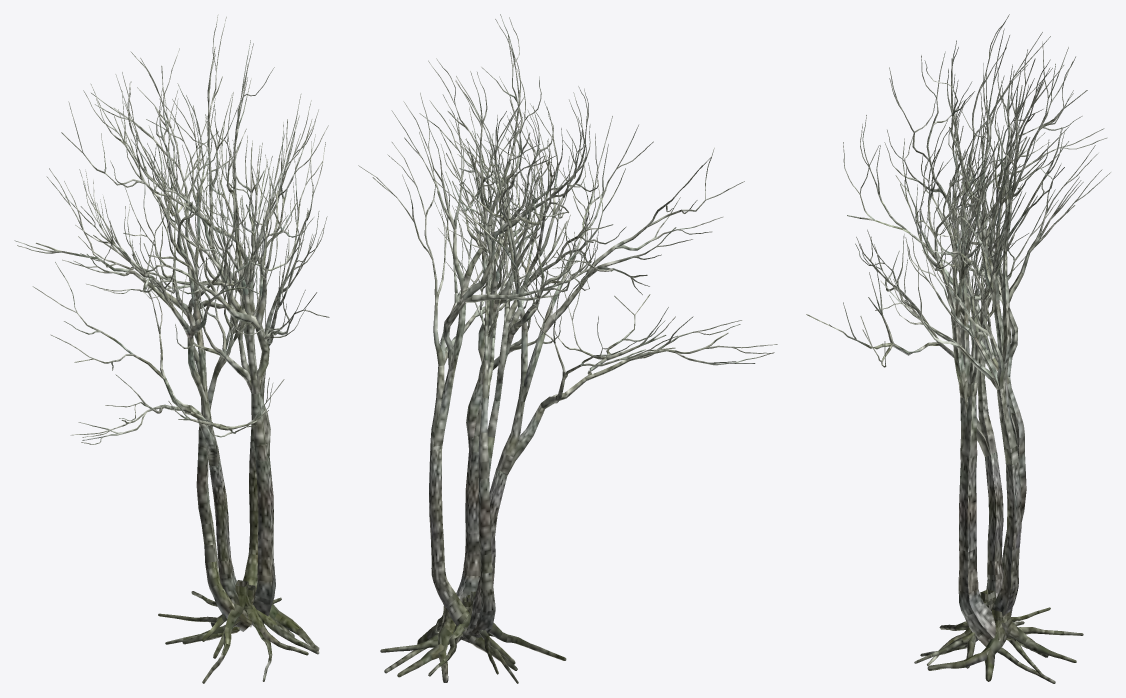
Rendered from Dead_derevo_04.fbx.
3 views of the same model, side by side, from view 1: azimuth 30°, elevation 25°; view 2: azimuth 150°, elevation 25°; view 3: azimuth 270°, elevation 25° (orthographic). The views are drawn at different scales.
Parts seen in each view (by area): view 1: Winter6; view 2: Winter6; view 3: Winter6.
Boxes of the visible parts, x1,y1,x2,y2 form: Winter6: (14,14,329,683); Winter6: (358,14,777,683); Winter6: (806,14,1110,683).
Bounding box in the file's own units: 72.32 × 133 × 59.52.
